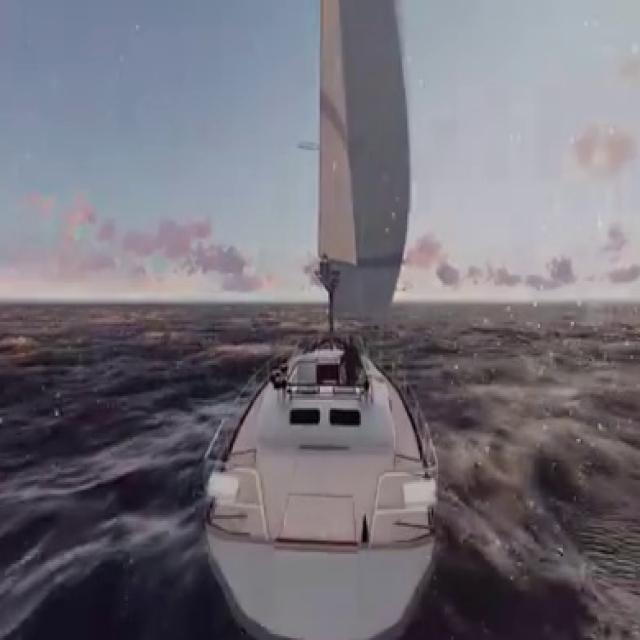sailboat: (195, 0, 443, 640)
